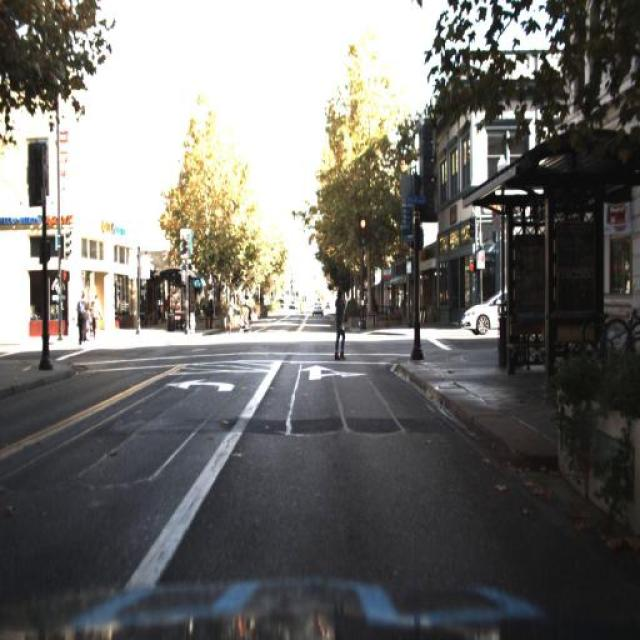car: (454, 270, 504, 339)
trafficLight: (218, 276, 254, 342), (329, 287, 349, 358), (89, 285, 103, 350), (76, 292, 89, 352)
trafficLight-RedLeft: (353, 208, 368, 248), (178, 230, 192, 266)
